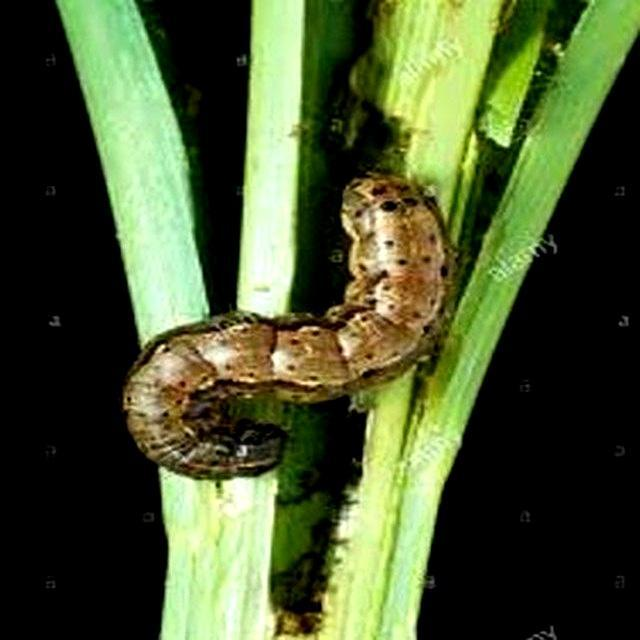worm: (121, 169, 462, 482)
